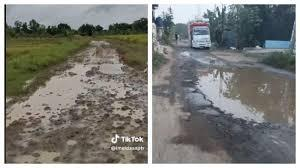Pothole: (0, 33, 148, 134), (183, 51, 300, 144)
